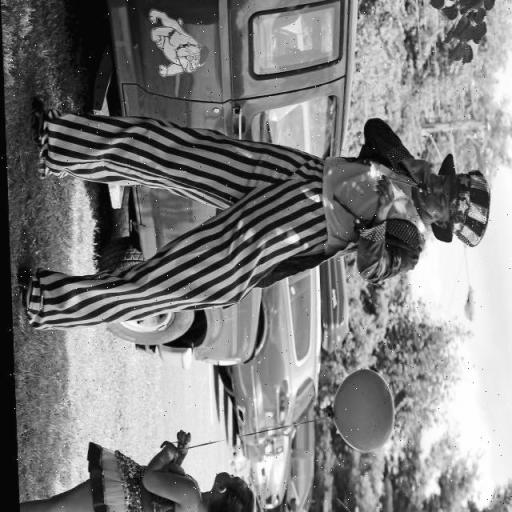balloon: (324, 366, 392, 464)
